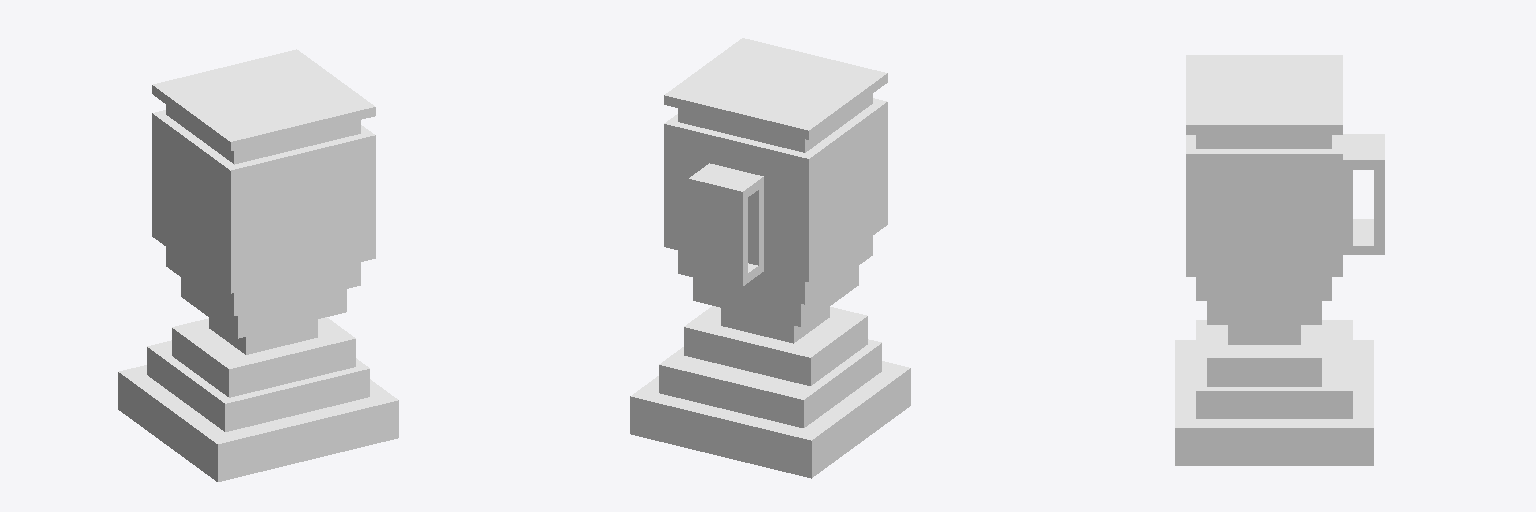
Rendered from licuadora.obj.
3 views of the same model, side by side, from view 1: azimuth 30°, elevation 25°; view 2: azimuth 150°, elevation 25°; view 3: azimuth 270°, elevation 25° (orthographic).
Visible parts, largest first — view 1: object 1; view 2: object 1; view 3: object 1.
Part boxes in pixels (x1,y1,x2,y2): object 1: (118,49,398,481); object 1: (630,38,910,478); object 1: (1175,55,1384,465).
Bounding box in the file's own units: 2 × 3.5 × 2.